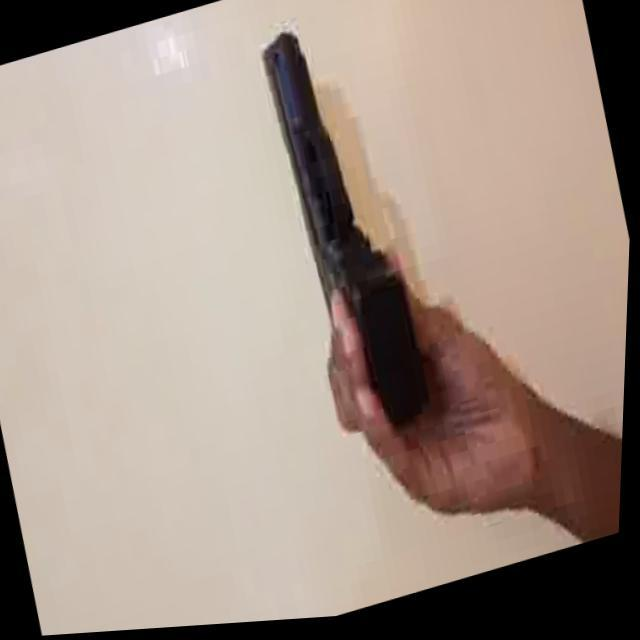weapon: (244, 4, 450, 454)
